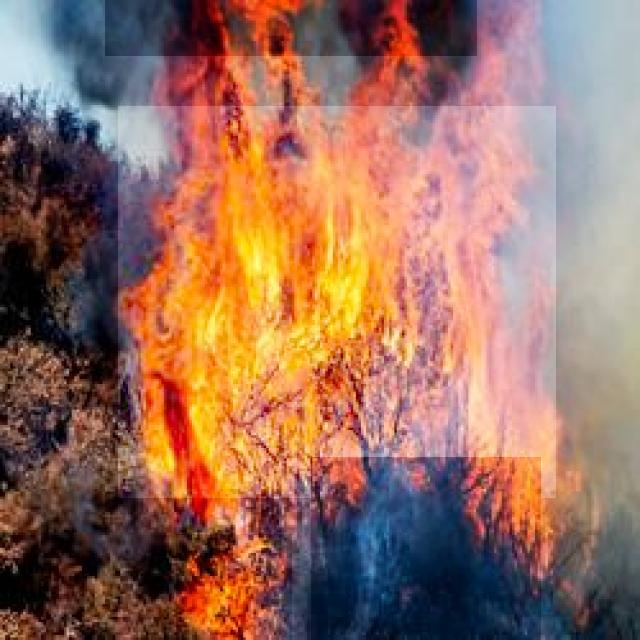Fire: (118, 106, 556, 498), (176, 534, 292, 640)
Smoke: (311, 457, 541, 640), (105, 0, 477, 56)
